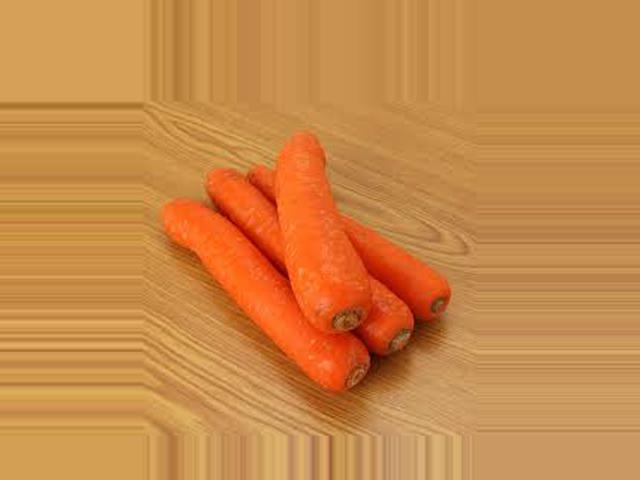carrot: (297, 179, 469, 329)
